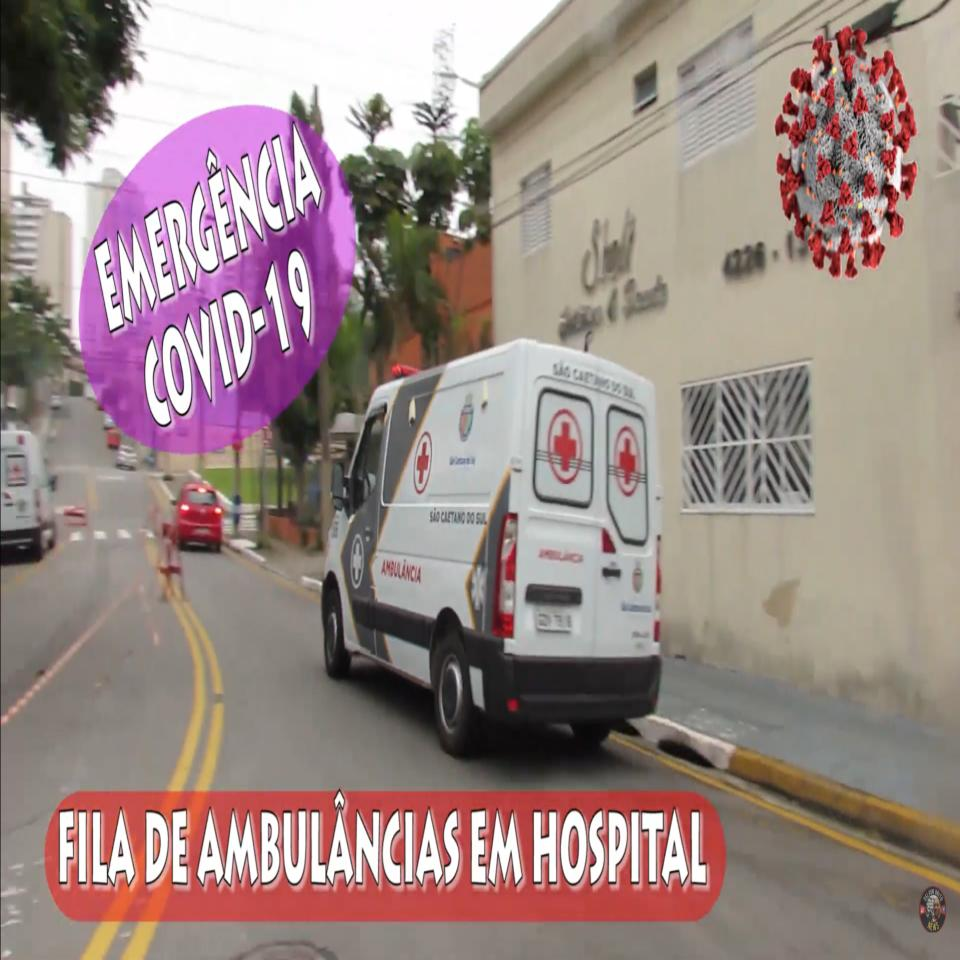bombeiro: (321, 339, 666, 761)
